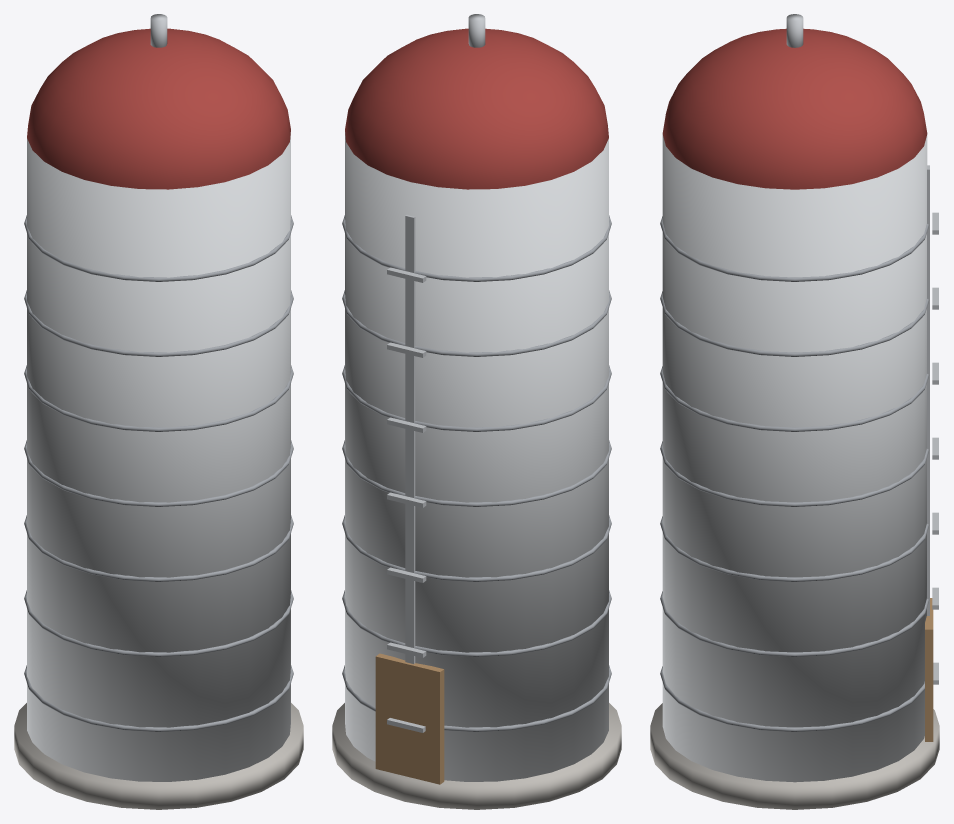
The model's file is world_silo.glb.
3 views of the same model, side by side, from view 1: azimuth 30°, elevation 25°; view 2: azimuth 150°, elevation 25°; view 3: azimuth 270°, elevation 25° (orthographic).
Visible parts, largest first — view 1: world_silo; view 2: world_silo; view 3: world_silo.
Part boxes in pixels (x1,y1,x2,y2): world_silo: (14, 14, 303, 809); world_silo: (332, 14, 621, 809); world_silo: (650, 14, 939, 809).
Bounding box in the file's own units: 3.5 × 9.75 × 3.5.
